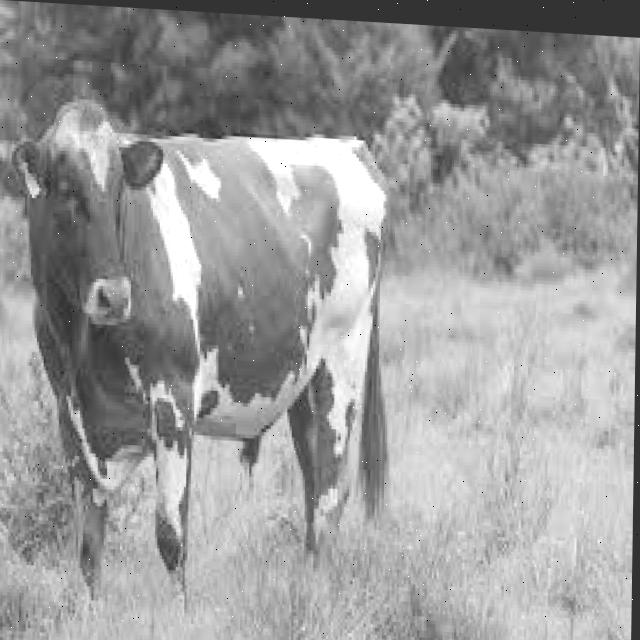Cow: (10, 106, 403, 573)
